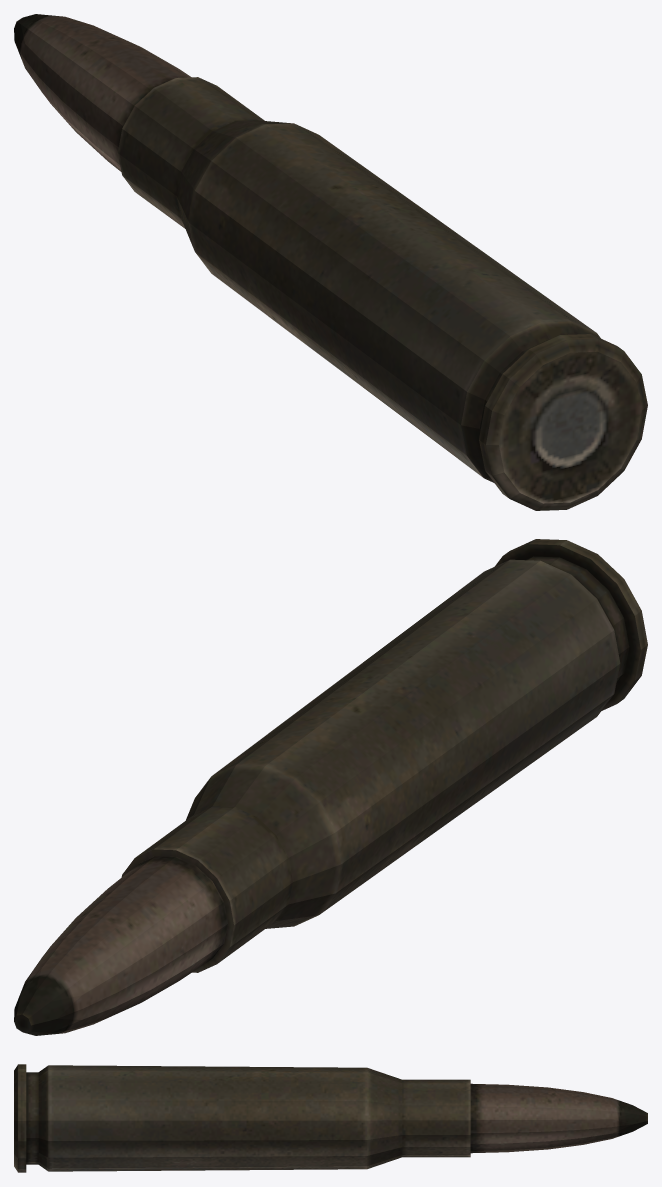
The picture shows the model from 3 angles, top to bottom: view 1: azimuth 30°, elevation 25°; view 2: azimuth 150°, elevation 25°; view 3: azimuth 270°, elevation 25°; orthographic projection. The views are drawn at different scales.
Visible parts, largest first — view 1: TW_5e023e88277cce2b522ff2b1_PZ_Import; view 2: TW_5e023e88277cce2b522ff2b1_PZ_Import; view 3: TW_5e023e88277cce2b522ff2b1_PZ_Import.
Boxes of the visible parts, x1=… form: TW_5e023e88277cce2b522ff2b1_PZ_Import: x1=14, y1=14, x2=647, y2=510; TW_5e023e88277cce2b522ff2b1_PZ_Import: x1=14, y1=539, x2=647, y2=1035; TW_5e023e88277cce2b522ff2b1_PZ_Import: x1=14, y1=1064, x2=647, y2=1172.
Bounding box in the file's own units: 0.00702 × 0.0411 × 0.00702.
1 material, 1 textured.
